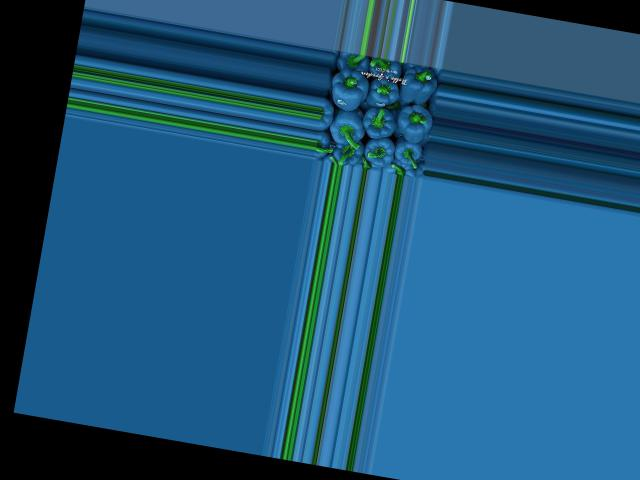bell_pepper: (331, 49, 372, 79)
